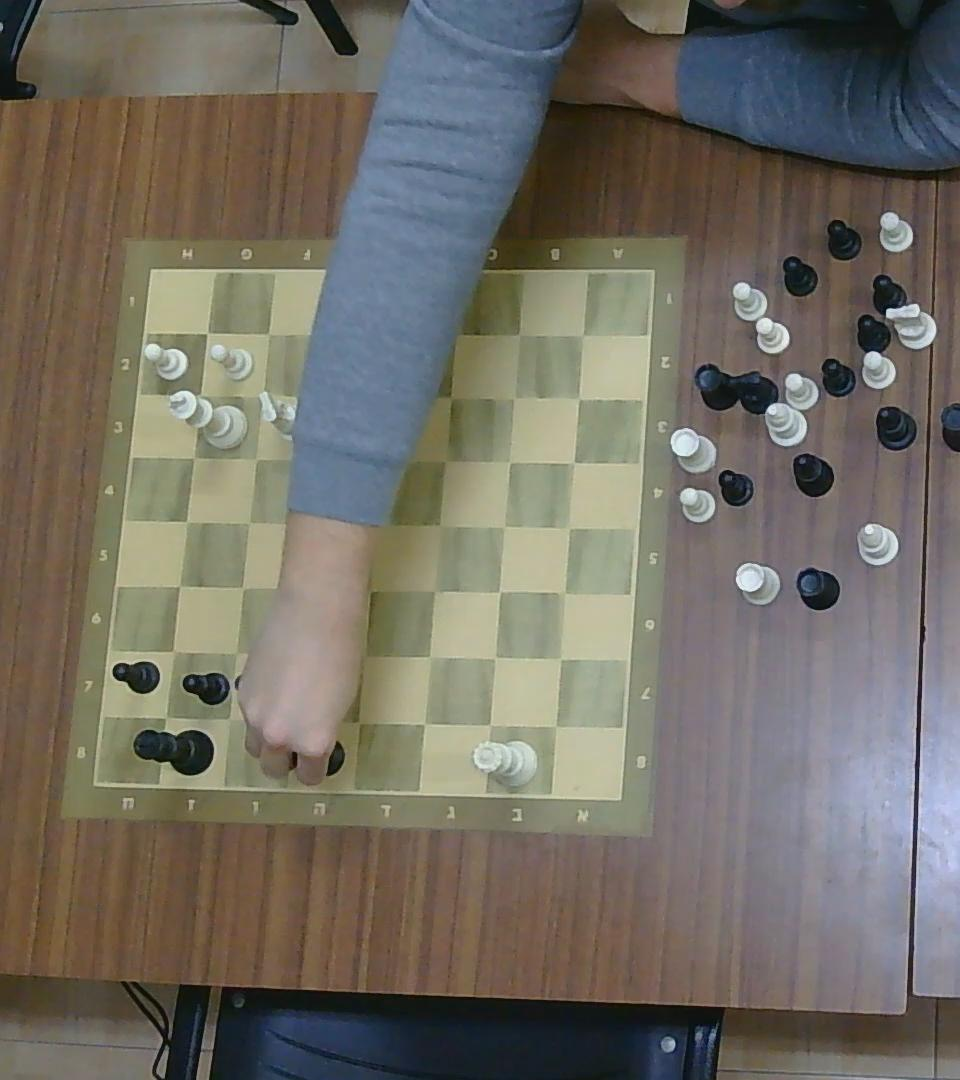xcorner: (374, 318, 400, 349), (476, 709, 503, 738), (345, 707, 372, 736), (216, 704, 243, 733), (368, 444, 395, 473), (542, 711, 569, 739), (185, 382, 212, 410), (547, 643, 573, 672), (372, 380, 398, 409), (309, 383, 335, 412), (311, 319, 337, 348), (417, 642, 443, 670), (481, 642, 507, 670), (411, 708, 437, 736), (551, 578, 577, 606), (153, 701, 179, 729), (222, 637, 248, 665), (556, 512, 582, 540), (246, 379, 272, 407), (486, 577, 511, 606), (229, 572, 254, 601), (420, 577, 446, 604), (491, 512, 516, 540), (438, 382, 463, 410), (295, 512, 320, 540), (307, 444, 331, 473), (167, 572, 192, 599), (161, 637, 186, 664), (244, 443, 269, 470), (235, 509, 260, 536), (444, 320, 469, 347), (292, 575, 317, 602), (427, 511, 451, 538), (281, 707, 305, 734), (360, 511, 384, 538), (561, 448, 586, 473), (497, 447, 521, 473), (174, 508, 198, 534), (357, 577, 381, 603), (288, 641, 311, 668), (181, 444, 205, 469), (352, 642, 376, 667), (506, 321, 530, 346), (196, 319, 219, 345), (257, 319, 280, 345), (433, 446, 456, 471), (502, 384, 525, 408), (570, 322, 593, 345), (569, 388, 590, 408)
